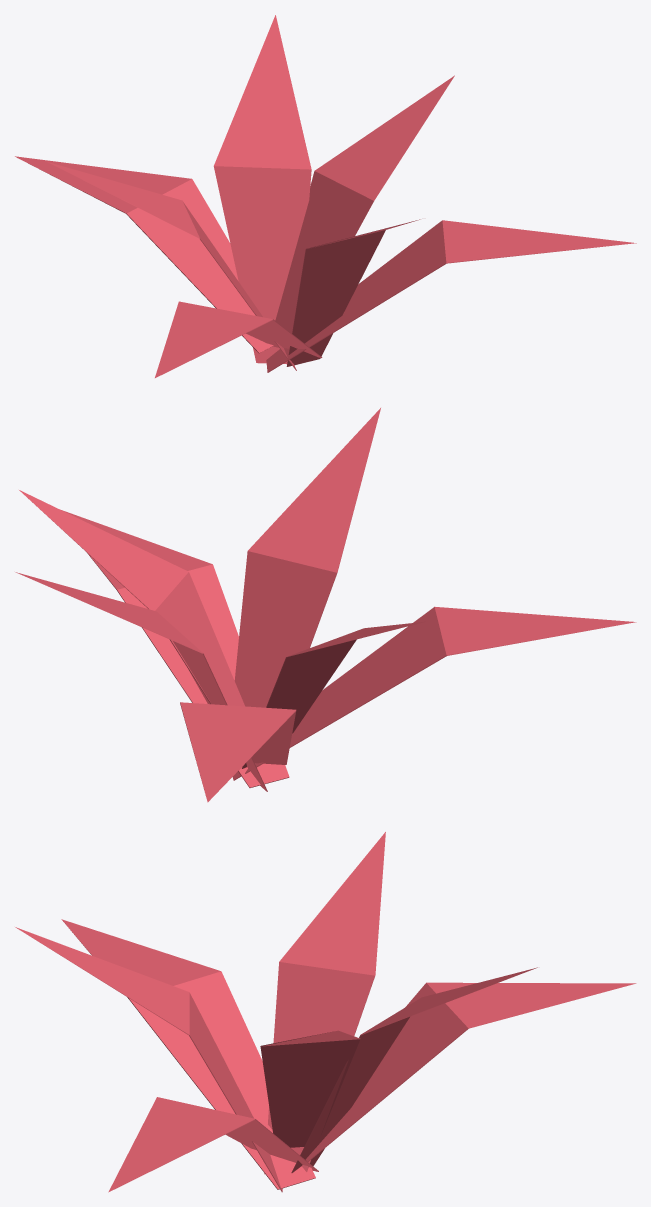
Rendered from decoration-grass.fbx.
3 views of the same model, one above another, from view 1: azimuth 30°, elevation 25°; view 2: azimuth 150°, elevation 25°; view 3: azimuth 270°, elevation 25° (orthographic). The views are drawn at different scales.
Parts seen in each view (by area): view 1: decoration-grass; view 2: decoration-grass; view 3: decoration-grass.
Part boxes in pixels (x1,y1,x2,y2): decoration-grass: [15, 15, 636, 377]; decoration-grass: [15, 408, 636, 802]; decoration-grass: [15, 832, 636, 1192].
Size of the model in its own units: 0.8931 by 0.4115 by 0.871.
